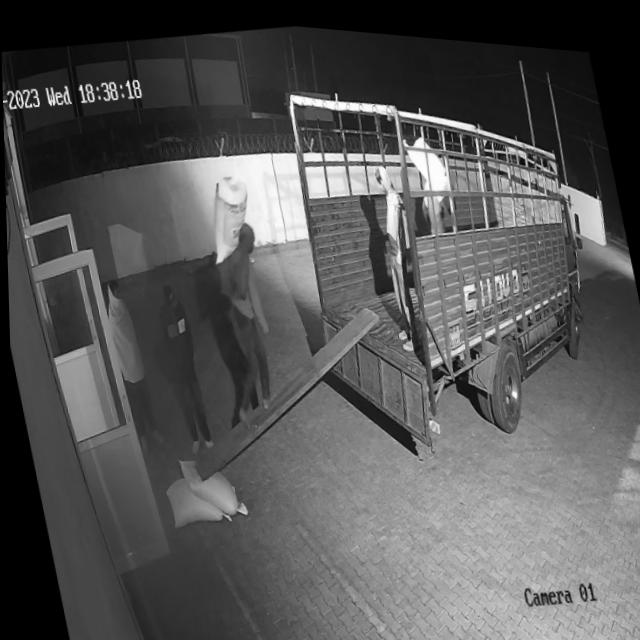sack: (197, 166, 260, 261), (174, 443, 247, 521), (161, 464, 230, 528), (402, 124, 452, 198)
